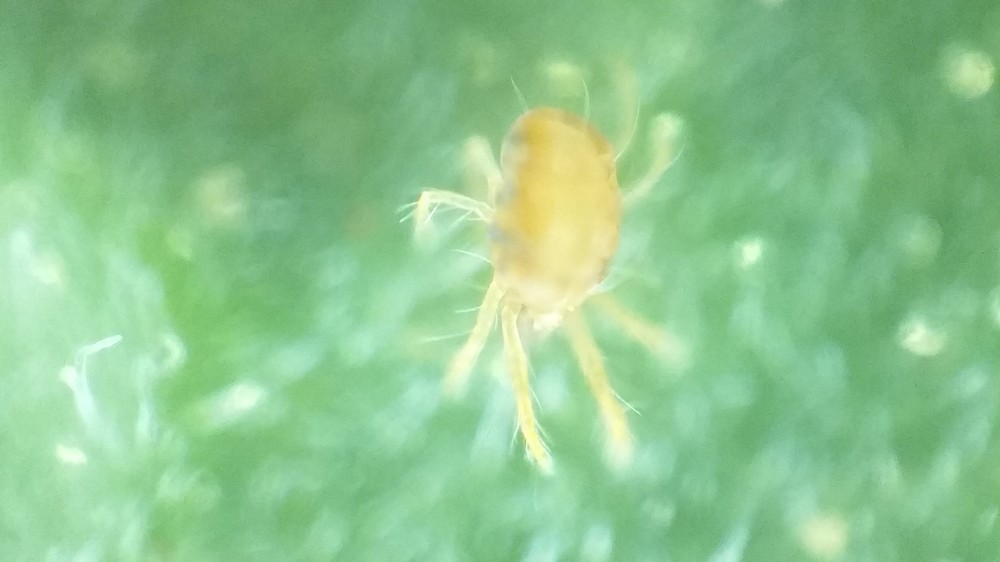Aracnido Rojo: (403, 76, 704, 478)
